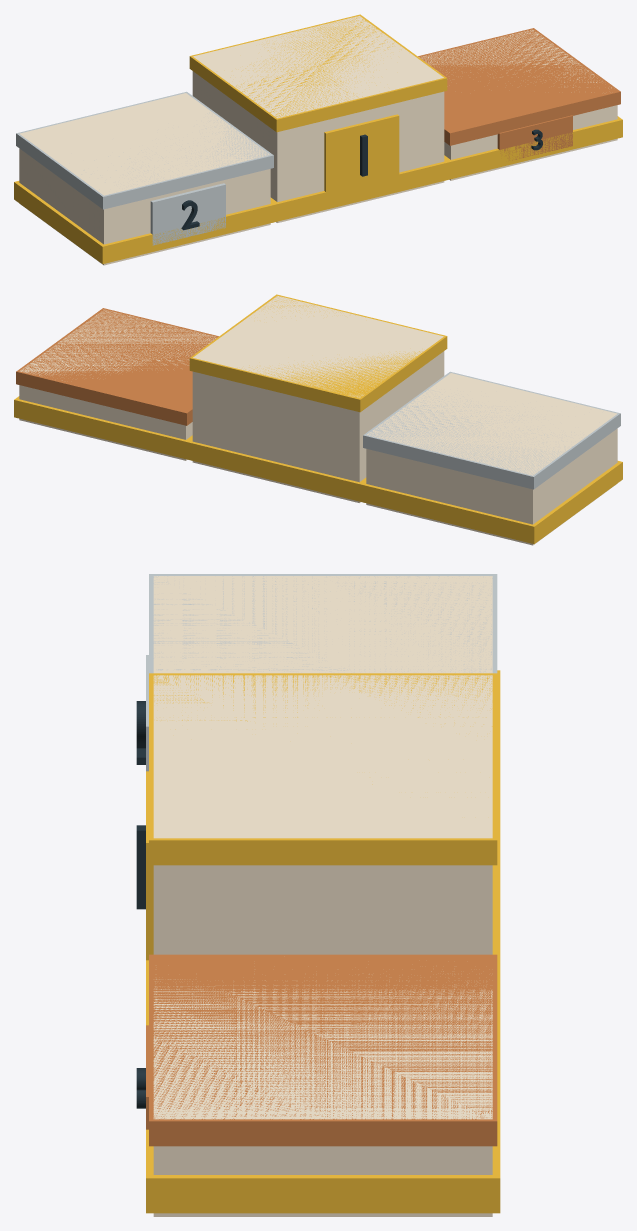
The model's file is podium.glb.
3 renders of one model, top to bottom at view 1: azimuth 30°, elevation 25°; view 2: azimuth 150°, elevation 25°; view 3: azimuth 270°, elevation 25°, orthographic. The views are drawn at different scales.
Visible parts, largest first — view 1: Podium, PodiumTrim; view 2: Podium, PodiumTrim; view 3: Podium, PodiumTrim.
Boxes of the visible parts, x1,y1,x2,y2 form: Podium: (16,14,620,265); PodiumTrim: (14,116,622,264); Podium: (16,294,620,545); PodiumTrim: (14,396,622,544); Podium: (136,574,497,1216); PodiumTrim: (146,670,500,1213).
Size of the model in its own units: 7.8 by 1.5 by 2.36.
